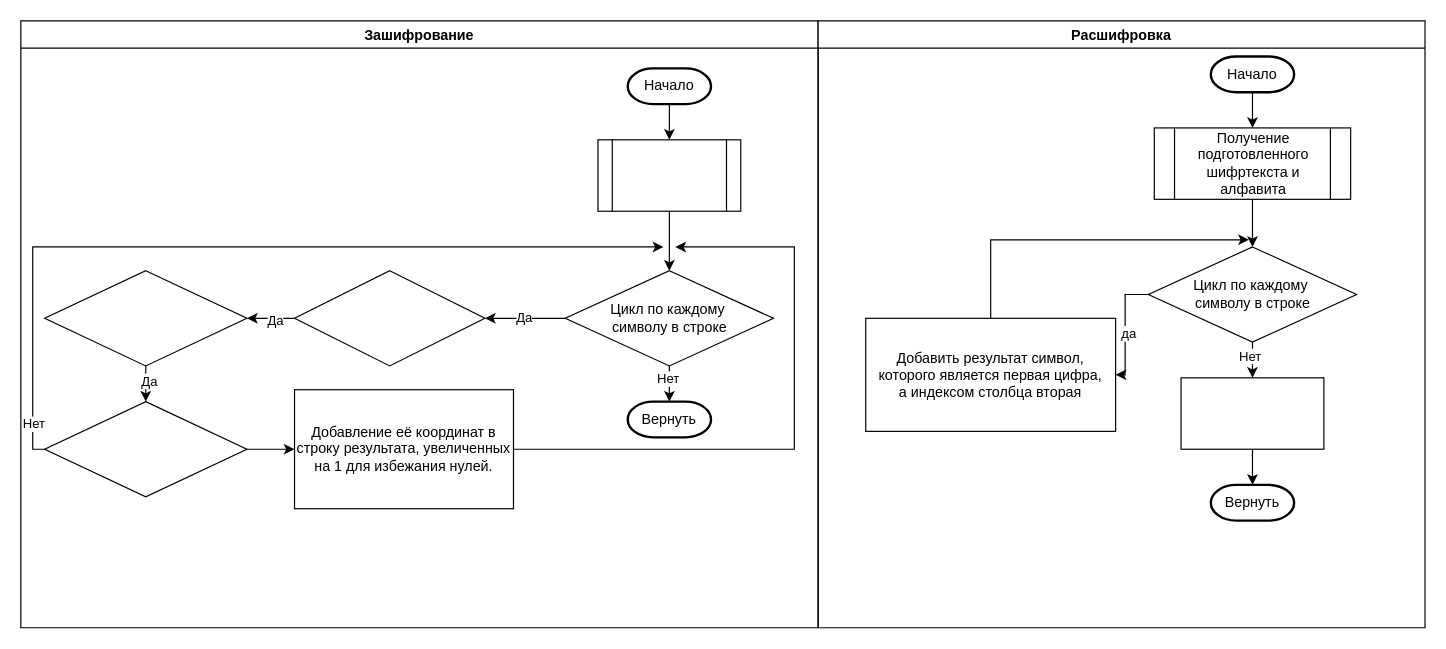
Image size: 1446x649. Some labels were removed from this diagram. The centre of each missing label's shape, as x and y in pixels:
"Перевести символы из текст в символьные" belongs at point 1252,413.
"Получение алфавита и текста" belongs at point 669,175.
"Проход по столбцам в таблице" belongs at point 145,318.
"Текущая буква совпадает с зашифровкой" belongs at point 145,448.
"Флаг, буква найдена в таблице" belongs at point 389,318.
